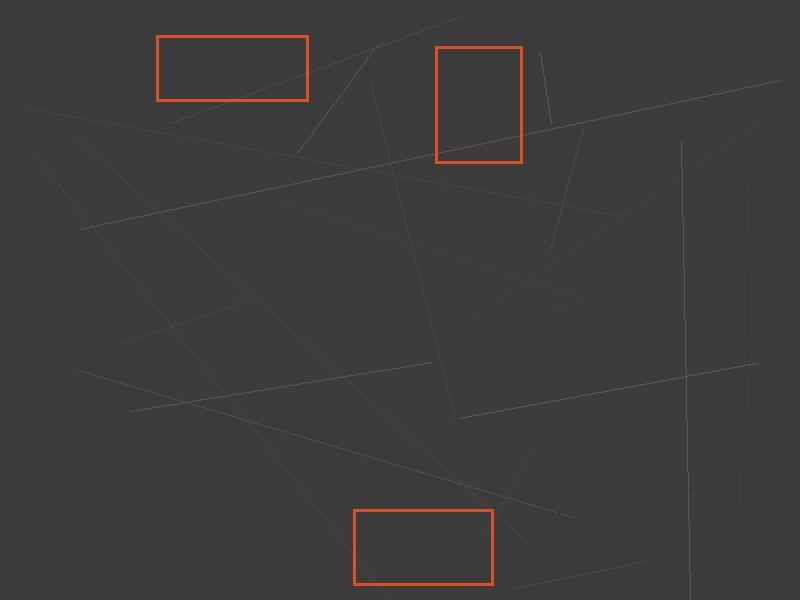D20: (353, 509, 493, 585), (435, 46, 522, 163), (156, 35, 308, 101)
